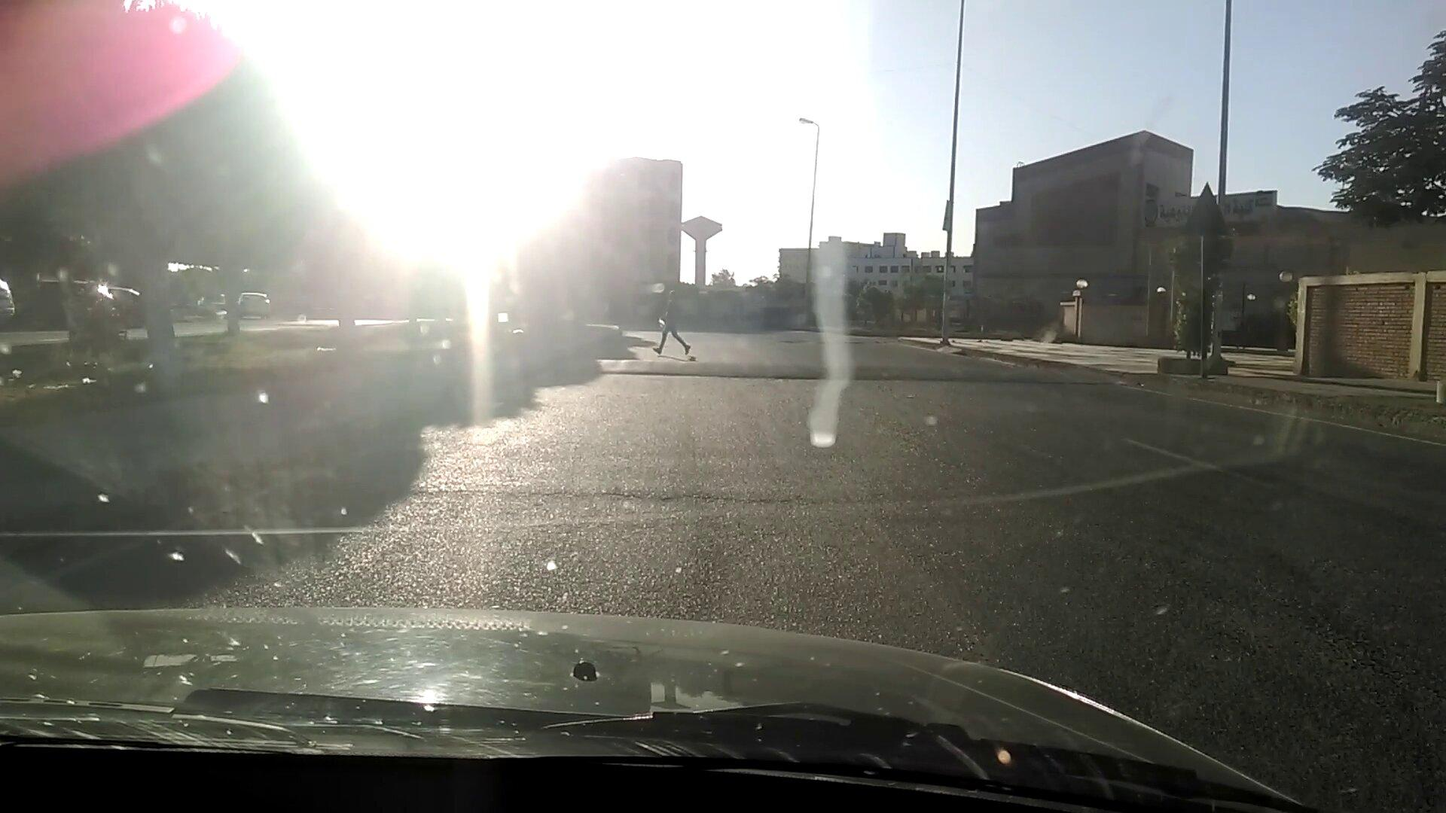Bump: (548, 354, 1131, 387)
